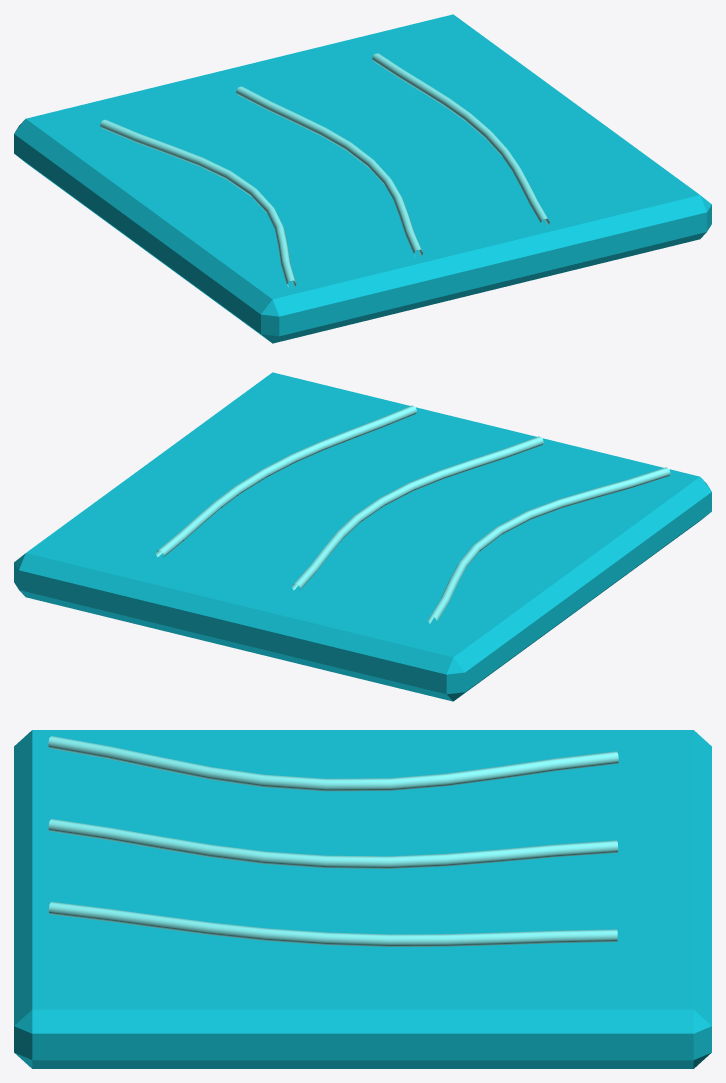
The model's file is terrain-ice.glb.
The picture shows the model from 3 angles, top to bottom: view 1: azimuth 30°, elevation 25°; view 2: azimuth 150°, elevation 25°; view 3: azimuth 270°, elevation 25°; orthographic projection. The views are drawn at different scales.
Visible parts, largest first — view 1: terrain-ice; view 2: terrain-ice; view 3: terrain-ice.
Part boxes in pixels (bbox=[...]): terrain-ice: bbox=[14, 14, 711, 343]; terrain-ice: bbox=[14, 372, 711, 701]; terrain-ice: bbox=[14, 730, 711, 1068].
Size of the model in its own units: 0.96 by 0.1048 by 0.96.
